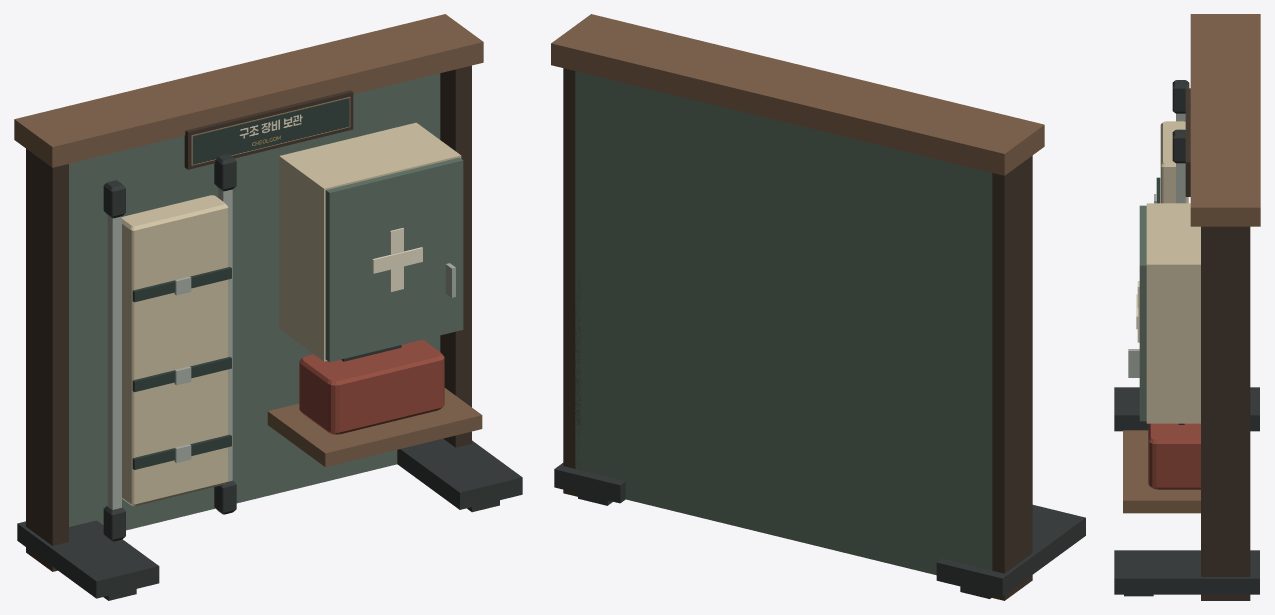
The model's file is 06_Rescue_Equipment_Station.fbx.
3 renders of one model, left to right at view 1: azimuth 30°, elevation 25°; view 2: azimuth 150°, elevation 25°; view 3: azimuth 270°, elevation 25°, orthographic. The views are drawn at different scales.
Visible parts, largest first — view 1: Structure.005, Stretcher, Cabinet_Door; view 2: Structure.005; view 3: Structure.005, Stretcher, Cabinet_Door.
Boxes of the visible parts, left/top/right/bottom form: Structure.005: left=14, top=14, right=522, bottom=600; Stretcher: left=103, top=153, right=236, bottom=541; Cabinet_Door: left=325, top=157, right=463, bottom=362; Structure.005: left=551, top=14, right=1085, bottom=600; Structure.005: left=1114, top=14, right=1260, bottom=600; Stretcher: left=1154, top=80, right=1189, bottom=203; Cabinet_Door: left=1128, top=205, right=1146, bottom=421.
Size of the model in its own units: 261 by 250 by 83.5.
Materials: 2 (2 with a texture image).
